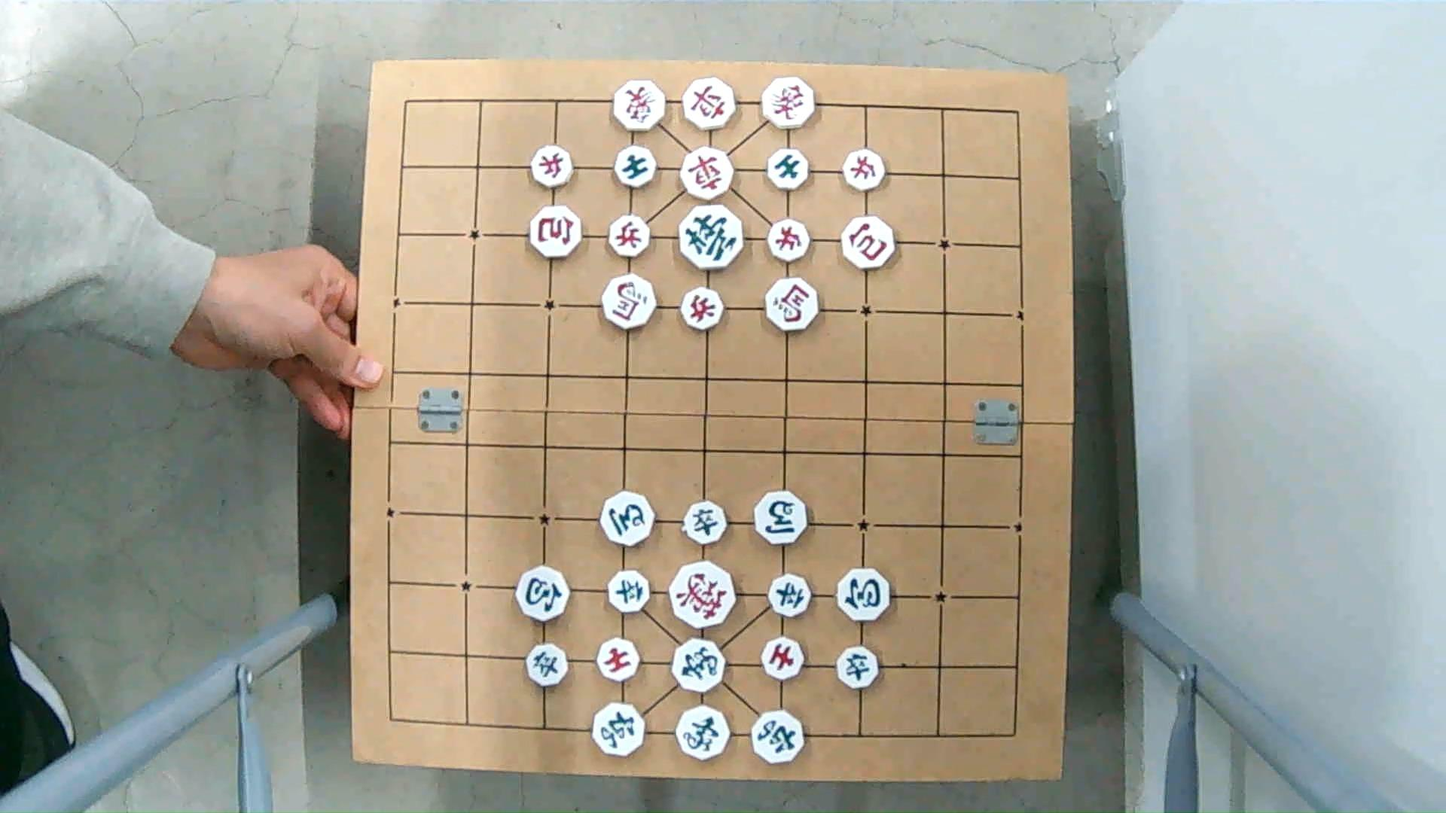cha_green: (749, 710, 807, 769), (593, 702, 652, 754)
cha_red: (682, 80, 738, 132), (681, 151, 737, 201)
jol_green: (525, 645, 572, 692), (834, 644, 880, 689), (684, 504, 730, 546), (768, 575, 813, 617), (610, 571, 654, 612)
jol_red: (764, 218, 811, 263), (608, 212, 652, 260), (679, 289, 727, 330), (532, 145, 576, 188), (843, 151, 886, 192)
ma_green: (752, 494, 811, 547), (599, 493, 655, 544)
ma_red: (600, 275, 660, 330), (766, 274, 822, 332)
po_green: (518, 568, 574, 619), (837, 570, 894, 620)
po_red: (843, 217, 898, 270), (532, 209, 587, 258)
sa_green: (767, 148, 812, 190), (615, 145, 659, 186)
sa_red: (758, 636, 807, 683), (598, 635, 642, 685)
sang_green: (673, 705, 736, 760), (673, 640, 728, 695)
sang_red: (764, 80, 821, 128), (614, 83, 670, 130)
wang_green: (677, 203, 746, 270)
wang_red: (670, 563, 741, 626)
